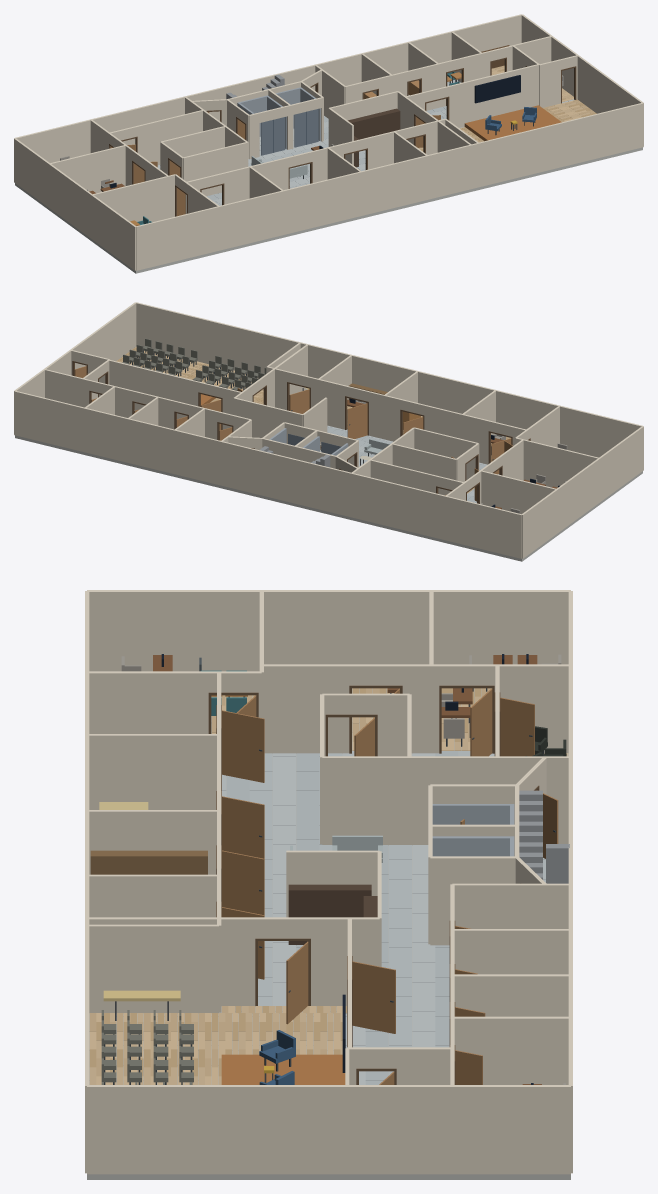
The model's file is bau-floor-9.glb.
3 renders of one model, top to bottom at view 1: azimuth 30°, elevation 25°; view 2: azimuth 150°, elevation 25°; view 3: azimuth 270°, elevation 25°, orthographic. The views are drawn at different scales.
Visible parts, largest first — view 1: Wall_20002, Wall_20000, Wall_20003, Wall_20001, Wall_20022_2, Wall_20006, Wall_20005, Floor_slab, Wall_20008_2, Wall_20012, Wall_20013_2, stage_24 (+29 smaller); view 2: Wall_20000, Wall_20002, Wall_20003, Wall_20001, Wall_20022_2, Wall_20006, Floor_slab, Wall_20005, Wall_20013_2, Wall_20010, Wall_20019, Wall_20013_4 (+23 smaller); view 3: Wall_20001, Wall_20003, Wall_20009, Wall_20018, Wall_20014, Wall_20007_2, Wall_20034, Wall_20004_4, Wall_20016, Wall_20015, Wall_20030, Wall_20031 (+36 smaller).
Boxes of the visible parts, x1=… form: Wall_20002: x1=135, y1=103, x2=643, y2=270; Wall_20000: x1=14, y1=14, x2=521, y2=162; Wall_20003: x1=14, y1=138, x2=135, y2=270; Wall_20001: x1=521, y1=14, x2=643, y2=146; Wall_20022_2: x1=448, y1=64, x2=538, y2=127; Wall_20006: x1=93, y1=174, x2=175, y2=222; Wall_20005: x1=50, y1=145, x2=125, y2=193; Floor_slab: x1=15, y1=147, x2=642, y2=273; Wall_20008_2: x1=137, y1=110, x2=203, y2=165; Wall_20012: x1=183, y1=142, x2=247, y2=196; Wall_20013_2: x1=223, y1=157, x2=288, y2=204; stage_24: x1=464, y1=105, x2=561, y2=141; Wall_20000: x1=14, y1=391, x2=522, y2=558; Wall_20002: x1=136, y1=302, x2=643, y2=457; Wall_20003: x1=522, y1=426, x2=643, y2=558; Wall_20001: x1=14, y1=302, x2=136, y2=434; Wall_20022_2: x1=108, y1=359, x2=198, y2=419; Wall_20006: x1=515, y1=437, x2=598, y2=487; Floor_slab: x1=15, y1=435, x2=642, y2=561; Wall_20005: x1=481, y1=470, x2=555, y2=514; Wall_20013_2: x1=424, y1=405, x2=489, y2=464; Wall_20010: x1=392, y1=443, x2=456, y2=495; Wall_20019: x1=234, y1=398, x2=302, y2=443; Wall_20013_4: x1=369, y1=391, x2=401, y2=441; Wall_20001: x1=87, y1=1085, x2=570, y2=1174; Wall_20003: x1=87, y1=590, x2=570, y2=671; Wall_20009: x1=322, y1=756, x2=570, y2=845; Wall_20018: x1=87, y1=924, x2=218, y2=1012; Wall_20014: x1=88, y1=734, x2=218, y2=809; Wall_20007_2: x1=87, y1=671, x2=208, y2=733; Wall_20034: x1=453, y1=1016, x2=570, y2=1084; Wall_20004_4: x1=261, y1=664, x2=349, y2=753; Wall_20016: x1=87, y1=874, x2=218, y2=917; Wall_20015: x1=87, y1=810, x2=218, y2=874; Wall_20030: x1=452, y1=883, x2=570, y2=928; Wall_20031: x1=452, y1=929, x2=570, y2=974.
Size of the model in its own units: 32.92 by 2.9 by 13.66.
